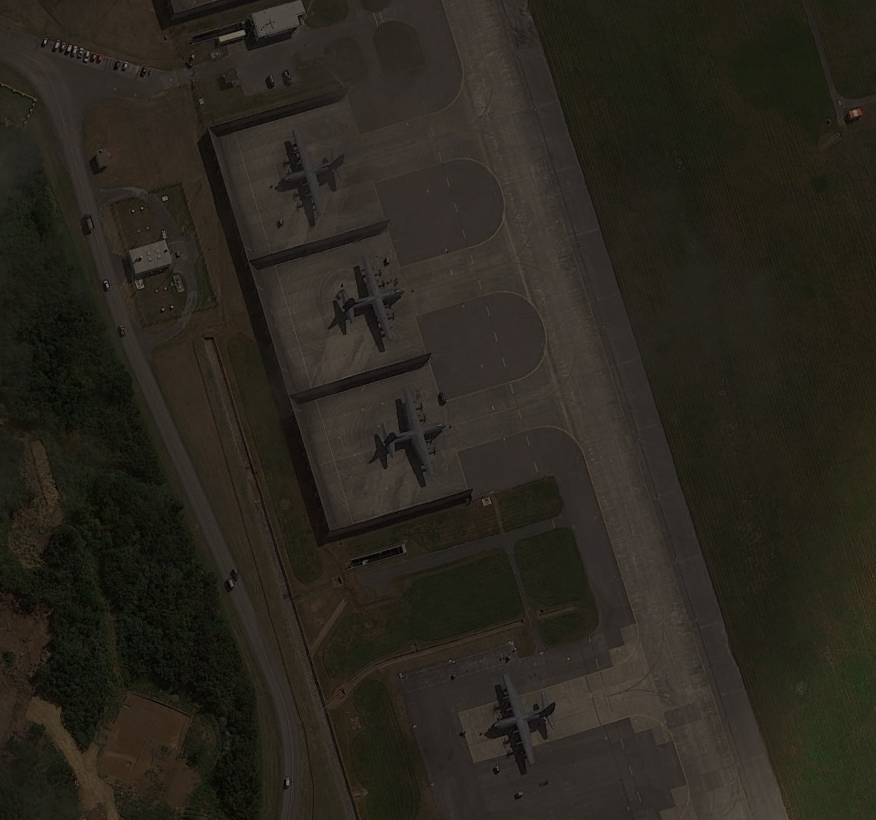A2: (264, 123, 362, 226), (318, 253, 411, 345), (364, 392, 457, 484), (481, 677, 566, 766)
